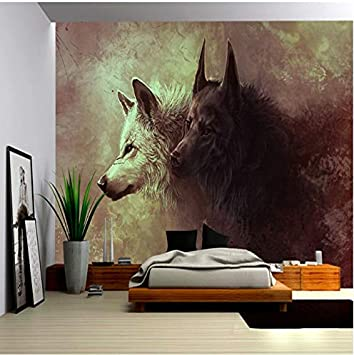Lobo: (176, 36, 331, 221), (82, 60, 173, 207)
